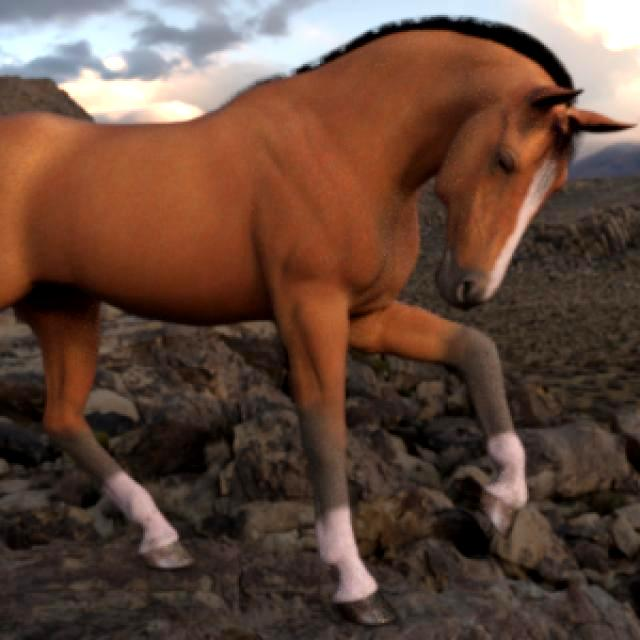horse: (0, 18, 629, 624)
